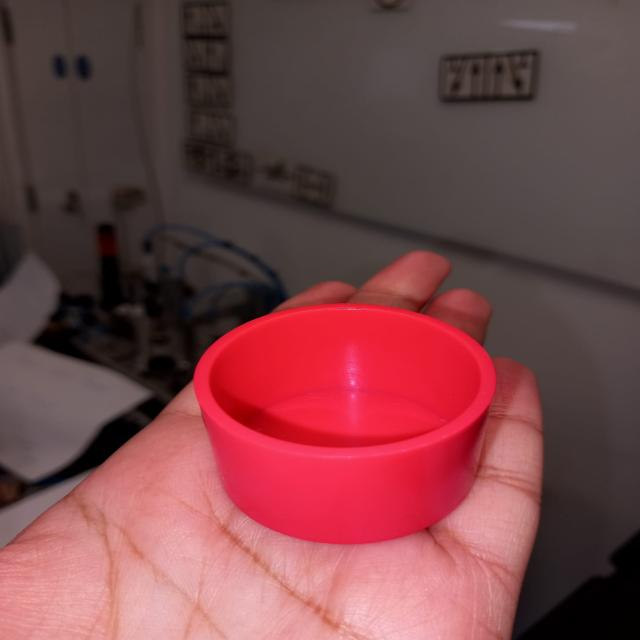NoLid: (193, 300, 507, 538)
